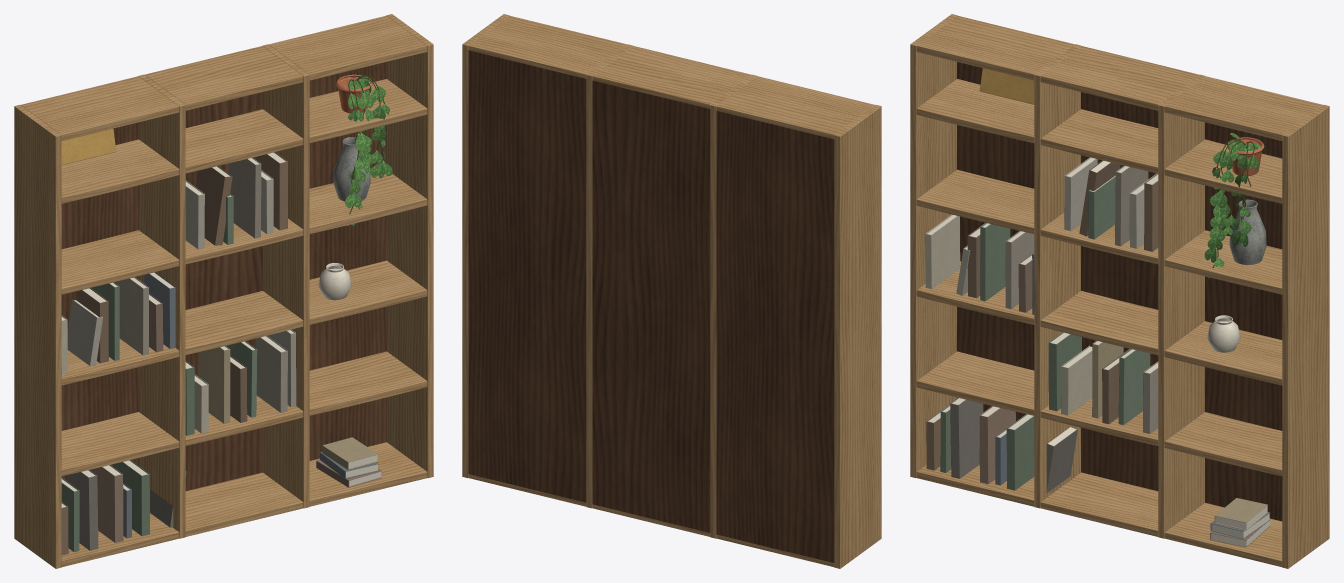
File: noi-that-ke-sach.glb
3 renders of one model, left to right at view 1: azimuth 30°, elevation 25°; view 2: azimuth 150°, elevation 25°; view 3: azimuth 330°, elevation 25°, orthographic.
Visible parts, largest first — view 1: BackPanel, Upright_1, Shelf_6, Upright_4, Shelf_5, Upright_2, Upright_3, Shelf_2, Shelf_3, Shelf_4, Shelf_1, Pothos (+30 smaller); view 2: BackPanel, Upright_1, Shelf_6, Upright_2, Upright_3, Upright_4, Shelf_1; view 3: BackPanel, Upright_4, Shelf_6, Upright_3, Shelf_5, Upright_1, Upright_2, Shelf_2, Shelf_3, Shelf_4, Shelf_1, Pothos (+31 smaller).
Boxes of the visible parts, bbox=[...] form: BackPanel: bbox=[61, 62, 386, 490]; Upright_1: bbox=[14, 105, 61, 568]; Shelf_6: bbox=[21, 16, 427, 140]; Upright_4: bbox=[386, 14, 433, 477]; Shelf_5: bbox=[61, 79, 427, 203]; Upright_2: bbox=[138, 74, 185, 538]; Upright_3: bbox=[262, 44, 309, 508]; Shelf_2: bbox=[61, 351, 427, 476]; Shelf_3: bbox=[61, 260, 427, 385]; Shelf_4: bbox=[61, 173, 427, 294]; Shelf_1: bbox=[61, 442, 427, 566]; Pothos: bbox=[345, 75, 392, 225]; BackPanel: bbox=[468, 50, 834, 562]; Upright_1: bbox=[834, 105, 881, 568]; Shelf_6: bbox=[468, 16, 874, 138]; Upright_2: bbox=[710, 74, 757, 538]; Upright_3: bbox=[586, 44, 633, 508]; Upright_4: bbox=[462, 14, 509, 477]; Shelf_1: bbox=[468, 474, 834, 566]; BackPanel: bbox=[957, 62, 1282, 521]; Upright_4: bbox=[1282, 105, 1329, 568]; Shelf_6: bbox=[916, 16, 1322, 140]; Upright_3: bbox=[1158, 74, 1205, 538]; Shelf_5: bbox=[916, 79, 1282, 203]; Upright_1: bbox=[910, 14, 957, 477]; Upright_2: bbox=[1034, 44, 1081, 508]; Shelf_2: bbox=[916, 351, 1282, 476]; Shelf_3: bbox=[916, 261, 1282, 385]; Shelf_4: bbox=[916, 169, 1282, 294]; Shelf_1: bbox=[916, 465, 1282, 566]; Pothos: bbox=[1204, 133, 1261, 278].
Bounding box in the file's own units: 1.83 × 2 × 0.35.
Materials: 11 (11 with a texture image).
